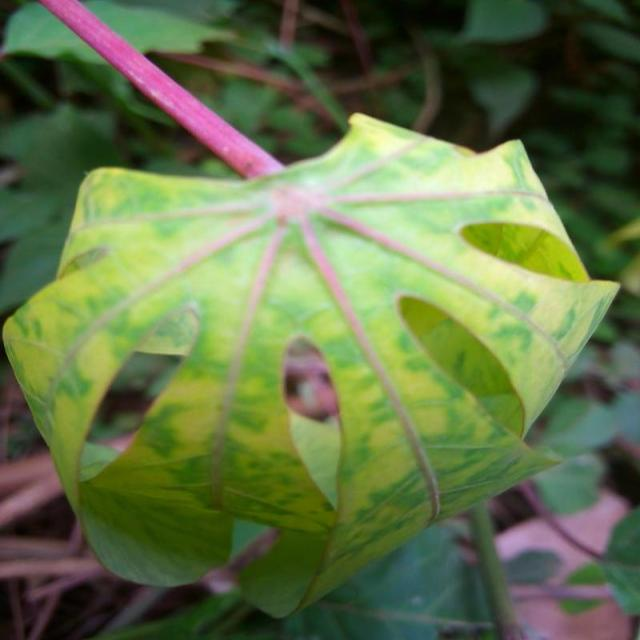cassava leaf: (2, 108, 622, 620)
